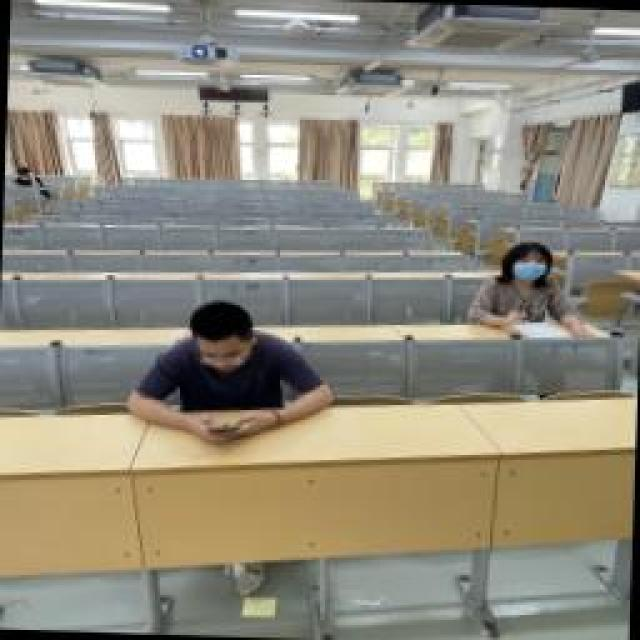phone: (125, 300, 333, 448)
study: (470, 242, 600, 340)
